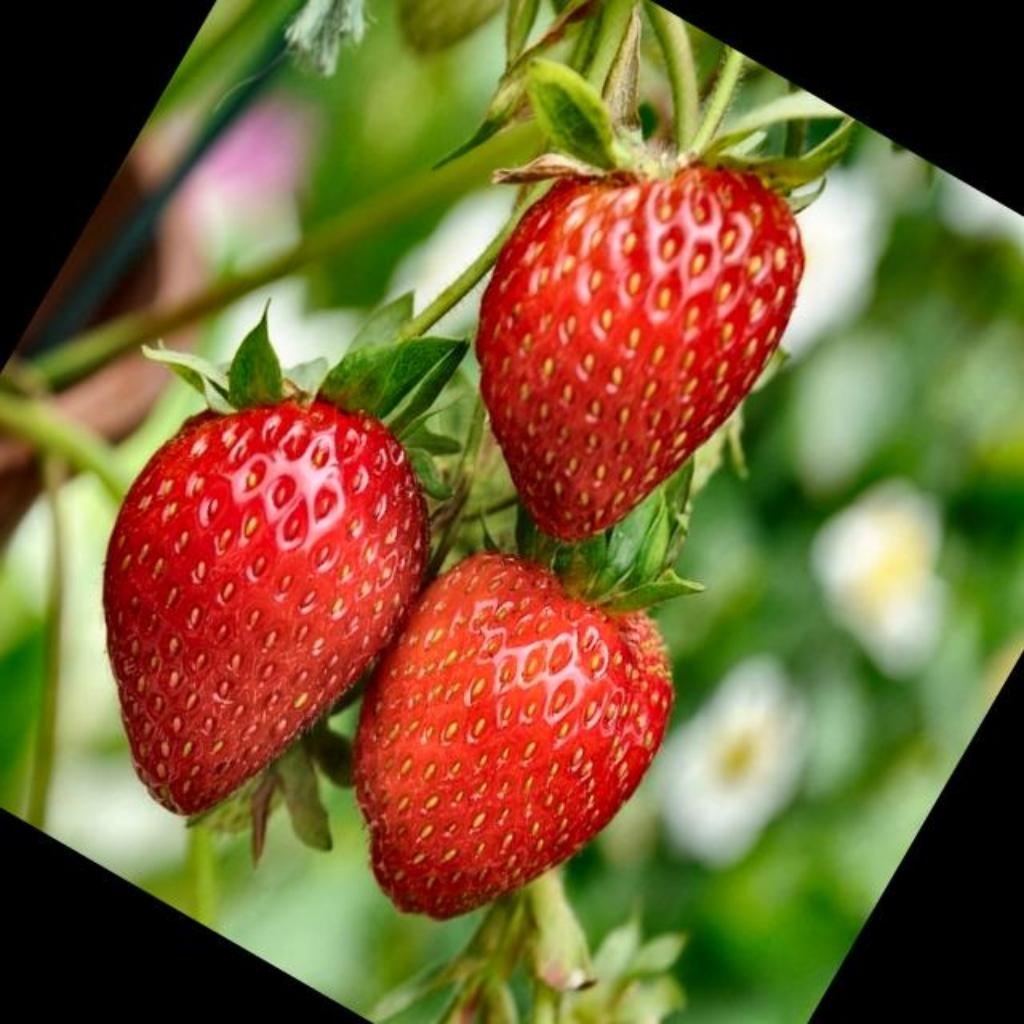strawberry: (104, 400, 428, 815), (476, 164, 804, 539), (354, 552, 674, 917)
